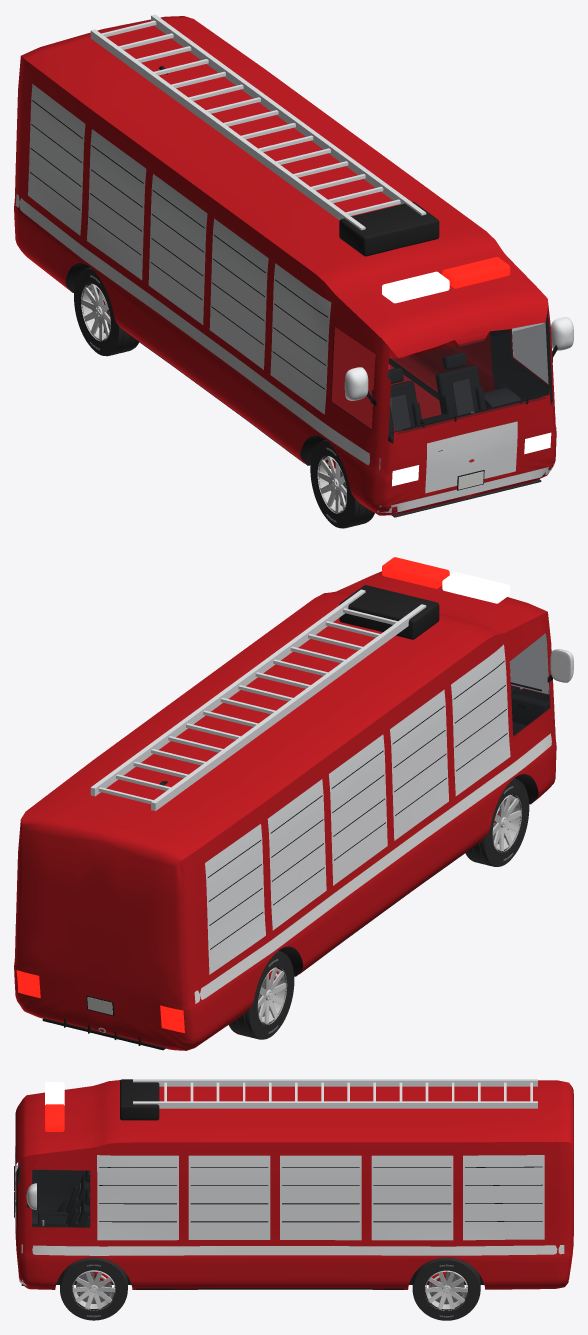
File: firetruck.glb
3 renders of one model, top to bottom at view 1: azimuth 30°, elevation 25°; view 2: azimuth 150°, elevation 25°; view 3: azimuth 270°, elevation 25°, orthographic. The views are drawn at different scales.
Parts seen in each view (by area): view 1: Body, Wheel_RR, Wheel_FR; view 2: Body, Wheel_RR, Wheel_FR; view 3: Body, Wheel_RL, Wheel_FL.
Part boxes in pixels (bbox=[...]): Body: bbox=[14, 14, 573, 517]; Wheel_RR: bbox=[74, 267, 139, 356]; Wheel_FR: bbox=[310, 440, 374, 528]; Body: bbox=[14, 557, 573, 1050]; Wheel_RR: bbox=[229, 951, 294, 1039]; Wheel_FR: bbox=[465, 778, 529, 866]; Body: bbox=[14, 1079, 573, 1289]; Wheel_RL: bbox=[412, 1257, 480, 1320]; Wheel_FL: bbox=[60, 1257, 127, 1320].
Bounding box in the file's own units: 3 × 3.35 × 8.57.
